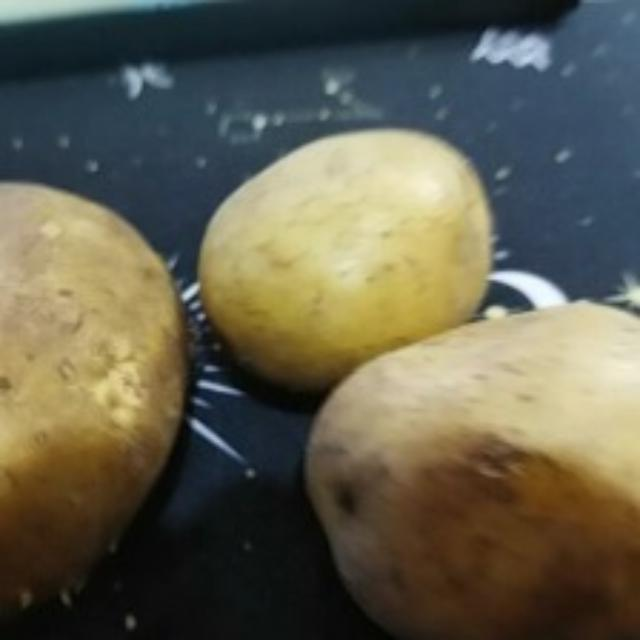Damaged potato: (297, 295, 638, 635), (1, 172, 190, 626)
Potato: (192, 118, 498, 384)
